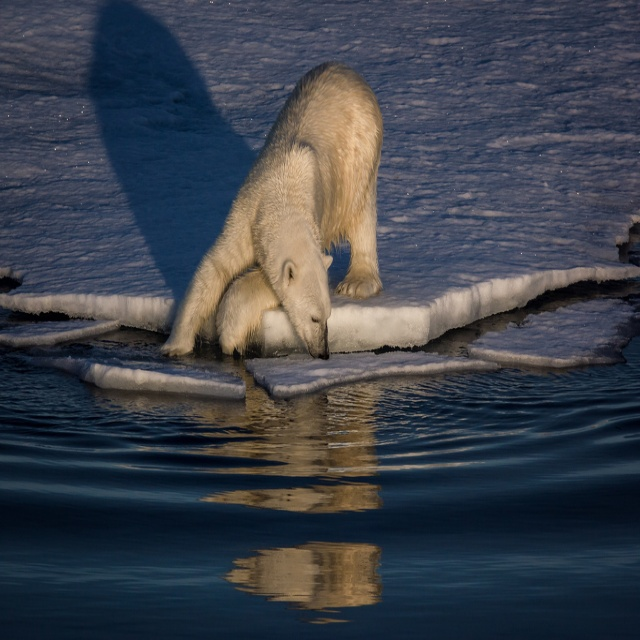Polar bear: (157, 60, 387, 362)
